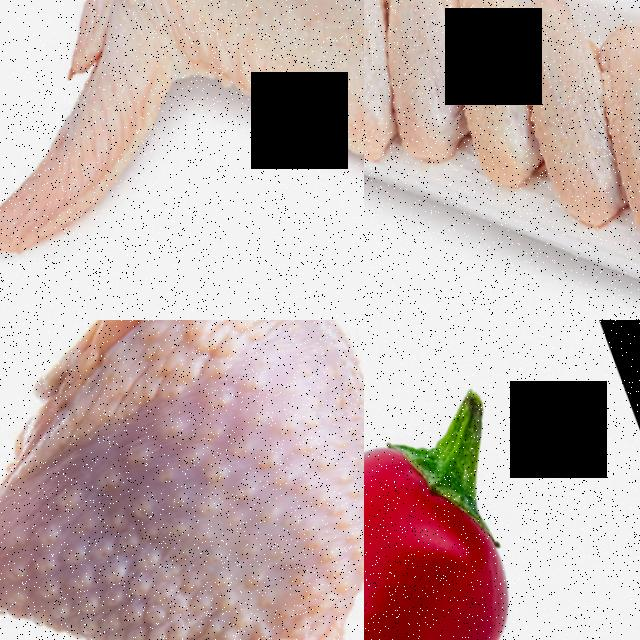chicken thigh: (0, 320, 364, 640)
chicken wing: (0, 0, 364, 320), (566, 0, 640, 273), (364, 0, 431, 180)
chilli: (364, 388, 576, 640)
